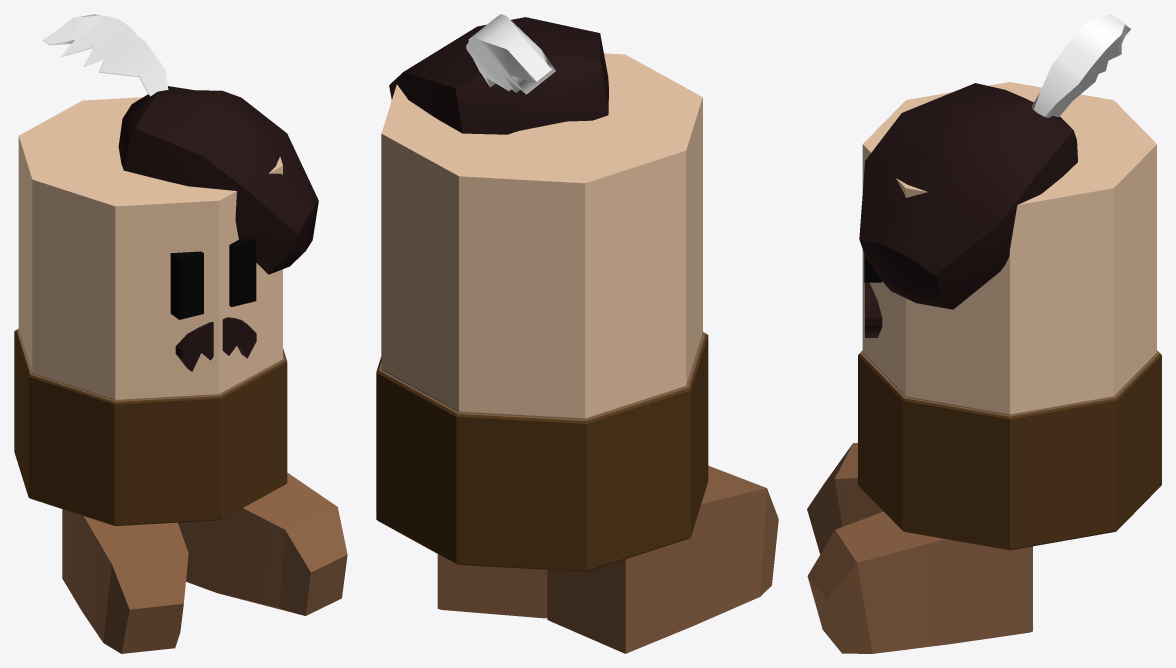
Rendered from Mayor.fbx.
3 views of the same model, side by side, from view 1: azimuth 30°, elevation 25°; view 2: azimuth 150°, elevation 25°; view 3: azimuth 270°, elevation 25° (orthographic). The views are drawn at different scales.
Visible parts, largest first — view 1: pCylinder1, pCube3, pCube2, pCube9, pCube10, pCube6, pCube4, pCube5; view 2: pCylinder1, pCube9, pCube3, pCube2, pCube10; view 3: pCylinder1, pCube3, pCube2, pCube10, pCube9, pCube6.
Boxes of the visible parts, x1,y1,x2,y2 form: pCylinder1: [14, 97, 287, 525]; pCube3: [118, 86, 318, 274]; pCube2: [178, 472, 347, 615]; pCube9: [62, 509, 188, 653]; pCube10: [42, 14, 168, 96]; pCube6: [175, 317, 256, 371]; pCube4: [170, 251, 203, 319]; pCube5: [229, 238, 256, 306]; pCylinder1: [376, 53, 708, 571]; pCube9: [547, 465, 778, 653]; pCube3: [389, 17, 608, 134]; pCube2: [437, 554, 547, 618]; pCube10: [466, 14, 555, 94]; pCylinder1: [858, 82, 1161, 550]; pCube3: [859, 83, 1077, 309]; pCube2: [807, 511, 1032, 653]; pCube10: [1031, 14, 1130, 117]; pCube9: [807, 442, 883, 554]; pCube6: [865, 282, 882, 337].
Bounding box in the file's own units: 249 × 492 × 279.
5 materials, 1 textured.
